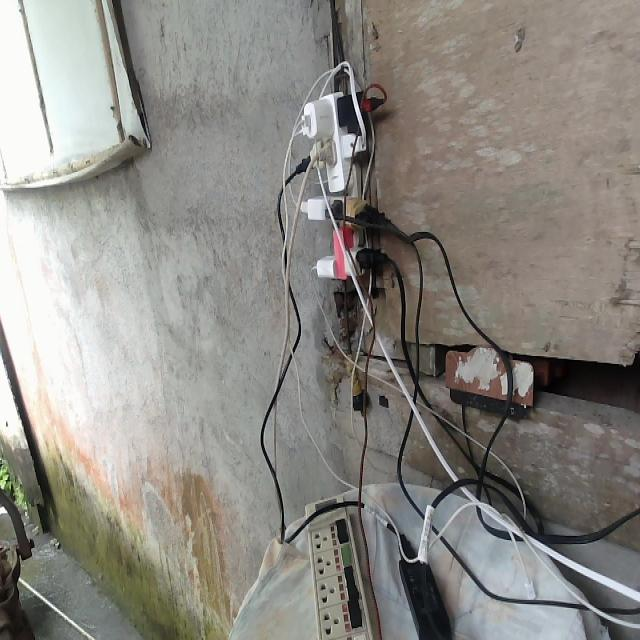-: (292, 86, 381, 282)
